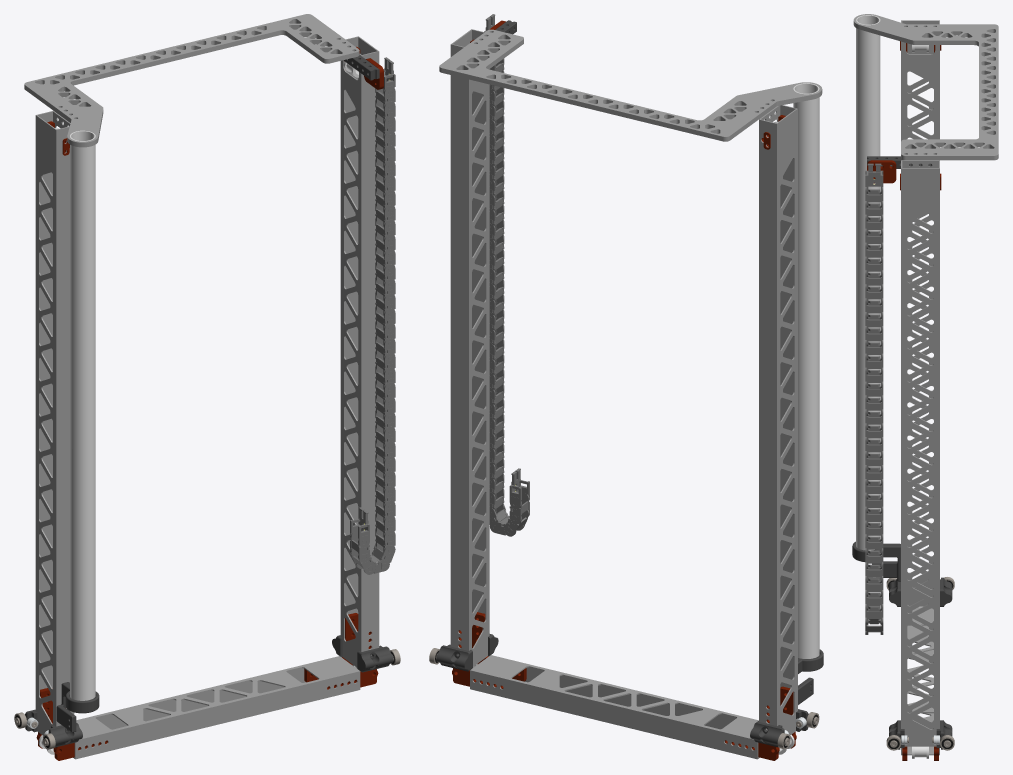
3 views of the same model, side by side, from view 1: azimuth 30°, elevation 25°; view 2: azimuth 150°, elevation 25°; view 3: azimuth 270°, elevation 25° (orthographic). The views are drawn at different scales.
Visible parts, largest first — view 1: Inner Stage Tube (×2), Inner Poly Tube, Smaller Cable Chain <1>, Inner Stage Bottom, Inner Crossbar, Inner Poly Tube Mount, WCP-0323-001 Rev2; view 2: Inner Stage Tube (×2), Inner Poly Tube, Inner Stage Bottom, Inner Crossbar, Smaller Cable Chain <1>, WCP-0323-001 Rev2, Inner Poly Tube Mount; view 3: Inner Stage Tube (×2), Smaller Cable Chain <1>, Inner Poly Tube, Inner Crossbar, Inner Stage Bottom, Inner Poly Tube Mount, WCP-0323-001 Rev2 (×2), Inner Chain Top Mount, Aluminum Nutstrip, #10-32, .500" Spacing (WCP-0336).
Boxes of the visible parts, x1,y1,x2,y2 form: Inner Stage Tube (×2): [35, 36, 379, 735]; Inner Poly Tube: [70, 130, 95, 700]; Smaller Cable Chain <1>: [350, 57, 395, 574]; Inner Stage Bottom: [73, 656, 360, 759]; Inner Crossbar: [24, 14, 359, 147]; Inner Poly Tube Mount: [56, 682, 99, 732]; WCP-0323-001 Rev2: [357, 645, 393, 672]; Inner Stage Tube (×2): [450, 29, 797, 735]; Inner Poly Tube: [793, 83, 819, 658]; Inner Stage Bottom: [470, 655, 759, 759]; Inner Crossbar: [439, 29, 822, 141]; Smaller Cable Chain <1>: [484, 14, 529, 536]; WCP-0323-001 Rev2: [436, 644, 472, 671]; Inner Poly Tube Mount: [798, 649, 823, 704]; Inner Stage Tube (×2): [901, 20, 939, 746]; Smaller Cable Chain <1>: [865, 163, 883, 634]; Inner Poly Tube: [856, 15, 880, 550]; Inner Crossbar: [853, 14, 998, 160]; Inner Stage Bottom: [901, 607, 939, 755]; Inner Poly Tube Mount: [852, 541, 900, 581]; WCP-0323-001 Rev2 (×2): [889, 577, 952, 606]; Inner Chain Top Mount: [867, 160, 896, 183]; Aluminum Nutstrip, #10-32, .500" Spacing (WCP-0336): [867, 156, 931, 168].
Bounding box in the file's own units: 0.4988 × 0.8636 × 0.1905.
